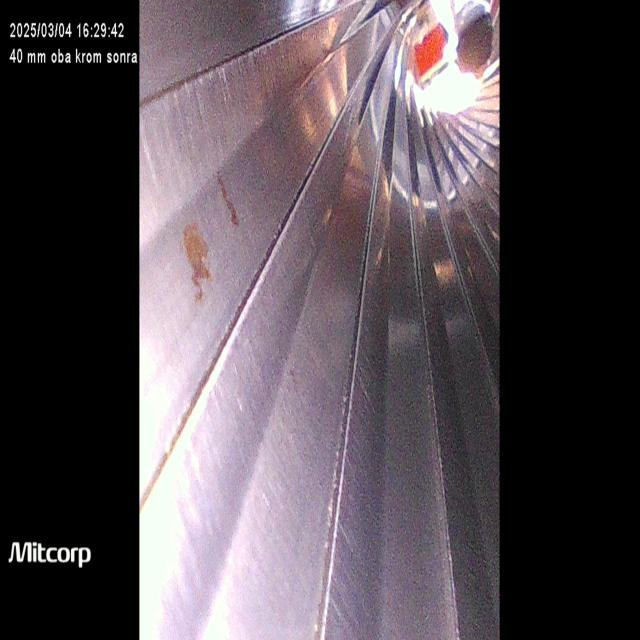hata_4.2: (170, 227, 231, 322), (267, 321, 315, 421), (207, 149, 256, 245)
